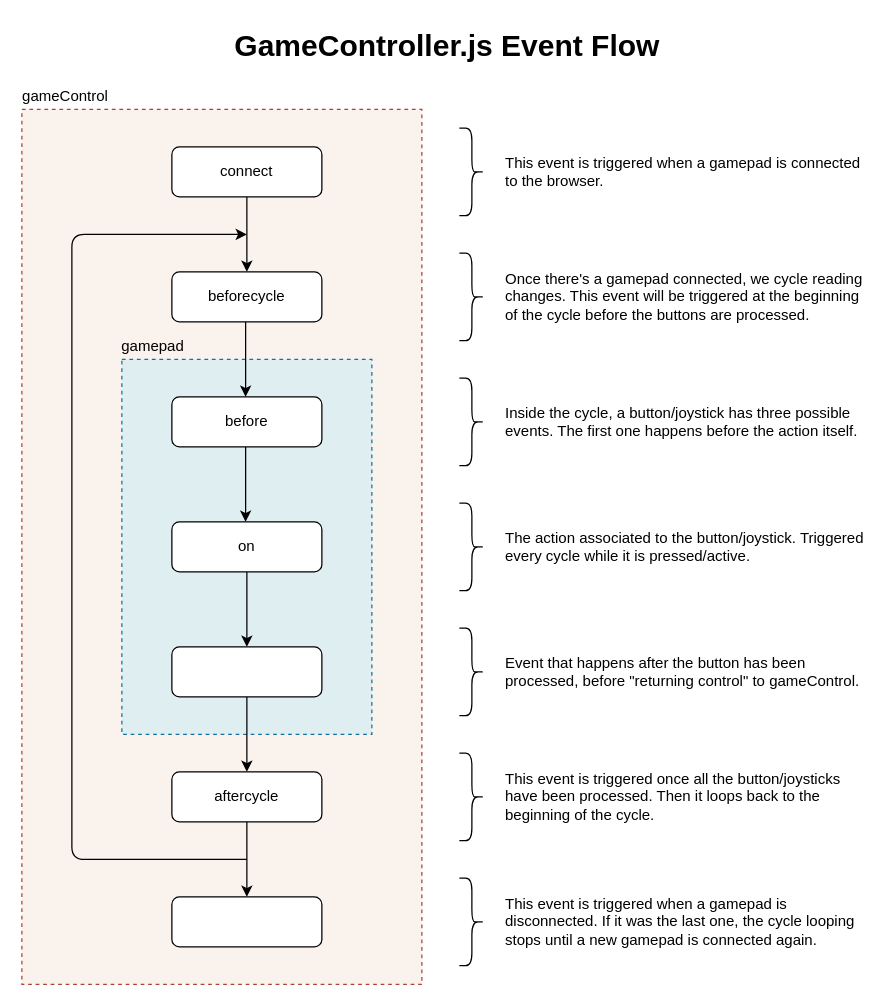
Some shapes in this 894 by 1006 pixel diagram are drawn without their labels. Each missing label, with the centre of its shape:
"after" goes at (x=246, y=671).
"disconnect" goes at (x=246, y=921).
